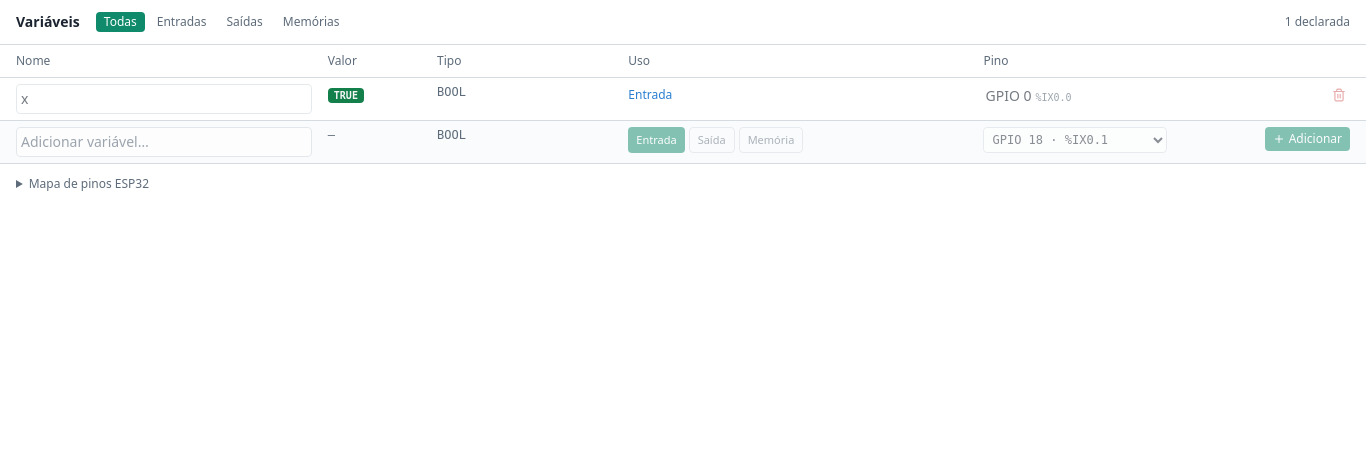
Test: TabelaVariaveis — bloqueio durante a simulação (revisão 2026-09-23, simetria com o contrato de E/S do ambiente) › com `simulacaoAtiva`, a leitura continua disponível: linhas, valores e mapa de pinos aparecem normalmente
The width and height of the screenshot is (1366, 459).
Expected: the field named "Nome da variável x" holds "x", [16, 84, 312, 114]
Expected: the text "TRUE" is shown, [328, 88, 364, 103]
What coordinates should you click on to do the following:
click the heading "Mapa de pinos ESP32"
I would click on:
 (89, 184)
Its box is [29, 175, 149, 192].
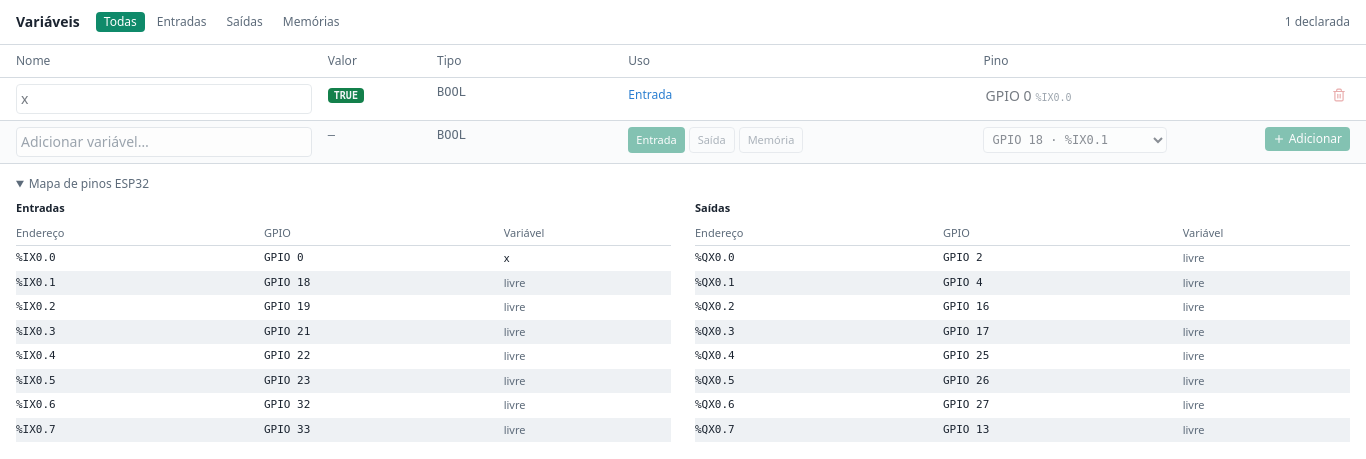
Result: the text "%IX0.0" is shown at [16, 246, 264, 270]
